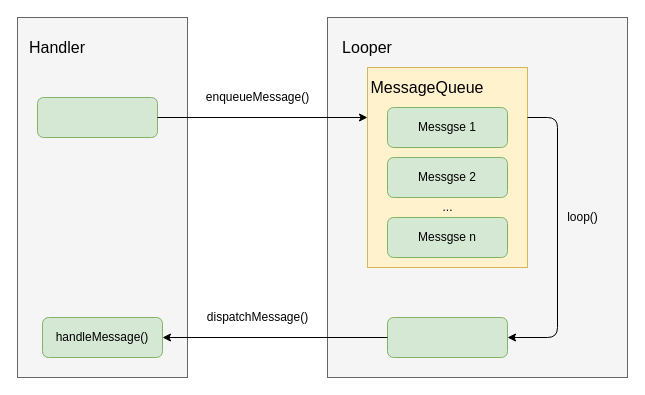
Some shapes in this 645 by 395 pixel diagram are drawn without their labels. The centre of each missing label's shape, as x and y in pixels:
"Message" goes at (447,337).
"sendMessage()" goes at (97,117).
